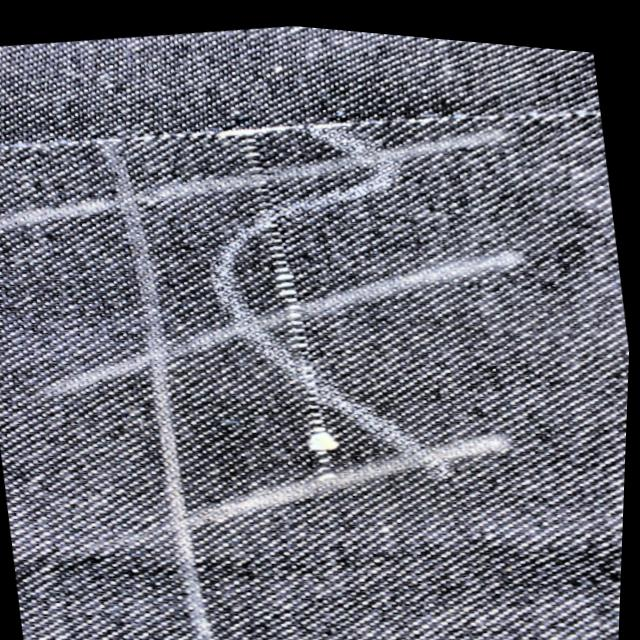Hole: (237, 128, 348, 479)
